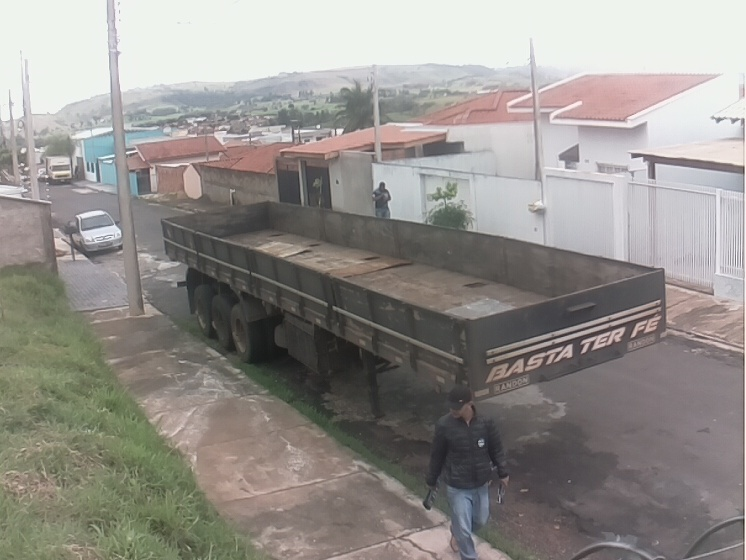person: (423, 385, 511, 560), (371, 181, 394, 221)
